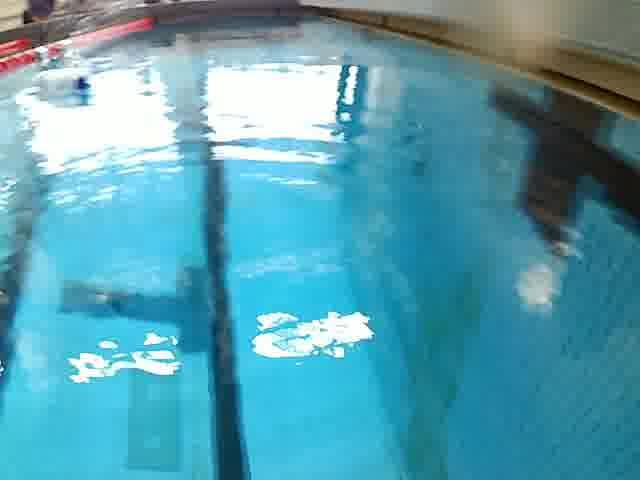Bottle: (35, 65, 97, 102)
